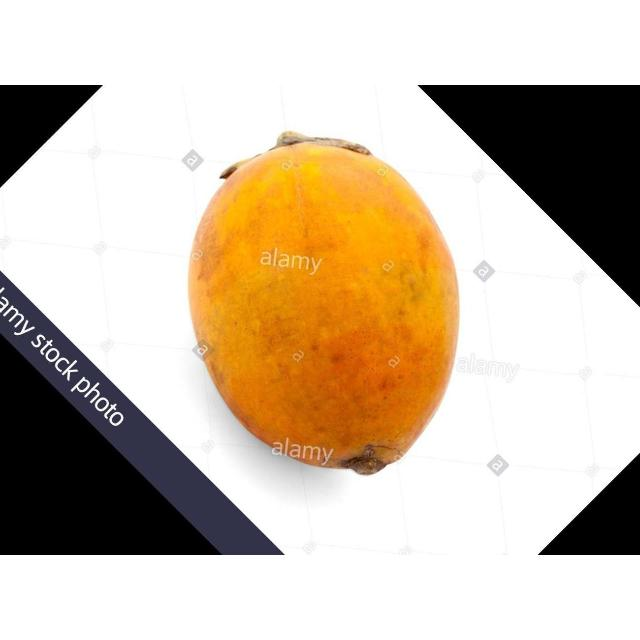good: (186, 140, 461, 478)
